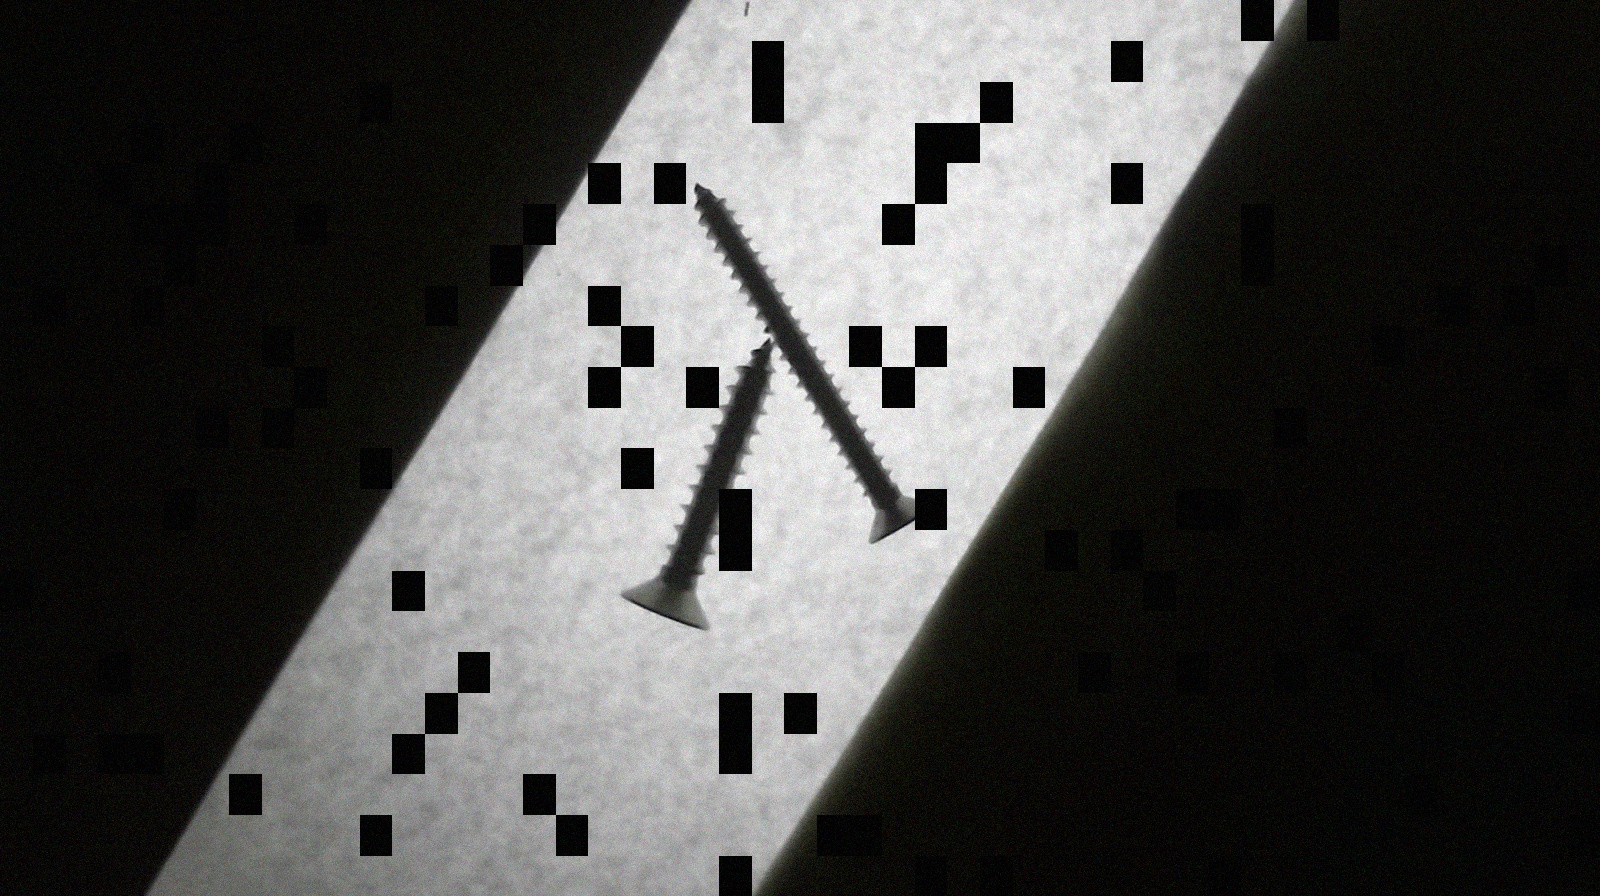S001: (607, 343, 780, 644)
S002: (681, 170, 929, 547)
